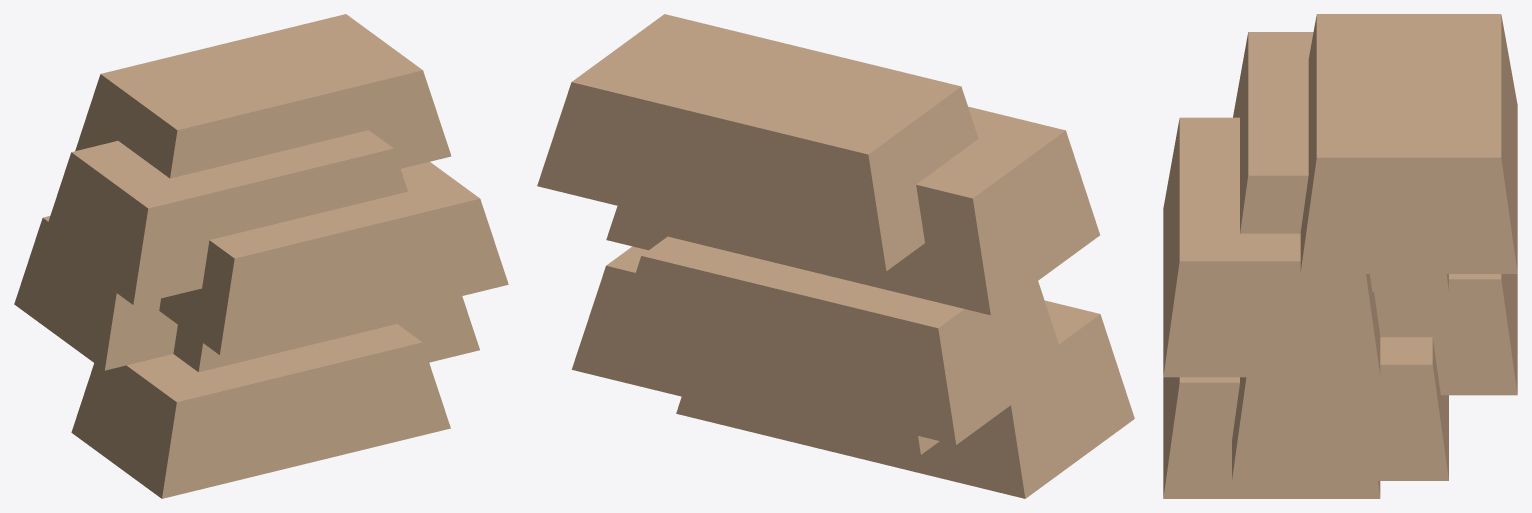
File: item_094_mud_brick_l.glb
3 views of the same model, side by side, from view 1: azimuth 30°, elevation 25°; view 2: azimuth 150°, elevation 25°; view 3: azimuth 270°, elevation 25° (orthographic). The views are drawn at different scales.
Parts seen in each view (by area): view 1: item_094_mud_brick_l; view 2: item_094_mud_brick_l; view 3: item_094_mud_brick_l.
Part boxes in pixels (left/top/right/bottom): item_094_mud_brick_l: left=14, top=14, right=508, bottom=498; item_094_mud_brick_l: left=537, top=14, right=1134, bottom=498; item_094_mud_brick_l: left=1163, top=14, right=1517, bottom=498.
Size of the model in its own units: 0.42 by 0.35 by 0.31.
